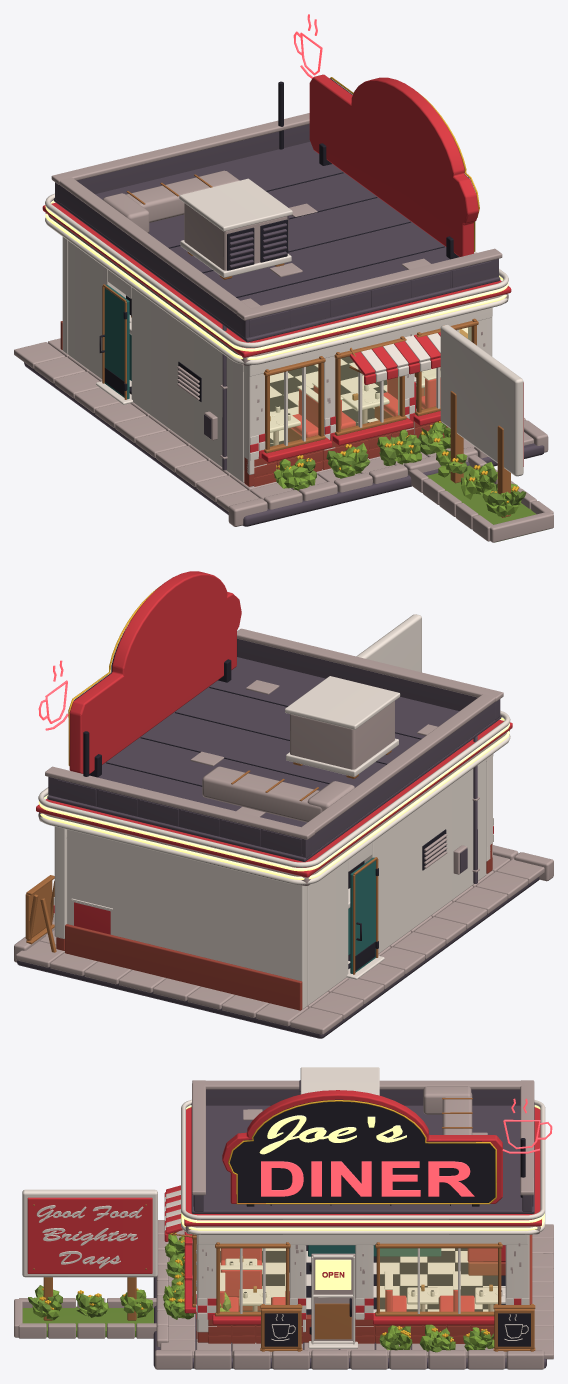
Rendered from bld.joes-diner.glb.
The picture shows the model from 3 angles, top to bottom: view 1: azimuth 30°, elevation 25°; view 2: azimuth 150°, elevation 25°; view 3: azimuth 270°, elevation 25°; orthographic projection. The views are drawn at different scales.
Parts seen in each view (by area): view 1: roof, object 5, interior, door_service; view 2: roof, object 5, door_service, interior; view 3: object 5, roof, interior, door_front.
Part boxes in pixels (left/top/right/bottom): roof: left=42, top=14, right=511, bottom=365; object 5: left=14, top=237, right=553, bottom=542; interior: left=126, top=295, right=440, bottom=446; door_service: left=99, top=284, right=129, bottom=399; roof: left=36, top=571, right=512, bottom=886; object 5: left=14, top=614, right=553, bottom=1038; door_service: left=350, top=857, right=378, bottom=974; interior: left=71, top=861, right=364, bottom=968; object 5: left=14, top=1185, right=553, bottom=1369; roof: left=181, top=1067, right=552, bottom=1234; interior: left=220, top=1245, right=505, bottom=1314; door_front: left=309, top=1253, right=355, bottom=1344.
Size of the model in its own units: 6.97 by 6.32 by 11.75.
